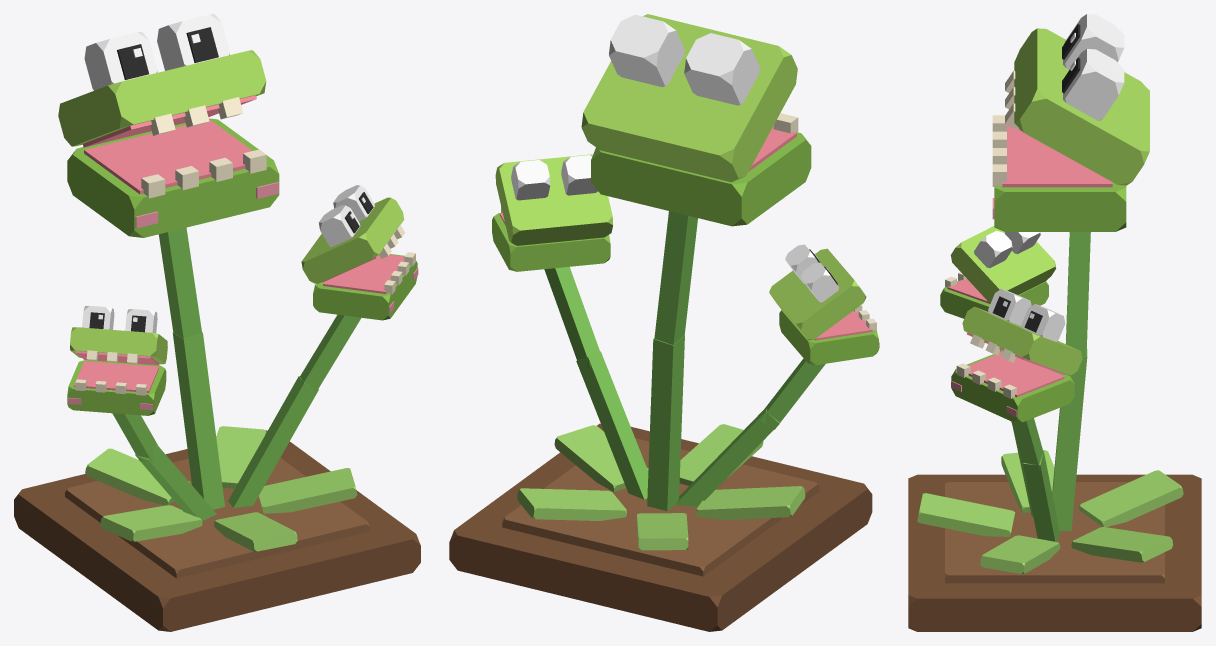
The model's file is venus-flytrap-poly-by-google_0y4ZpRcGhoD-blocky.glb.
3 views of the same model, side by side, from view 1: azimuth 30°, elevation 25°; view 2: azimuth 150°, elevation 25°; view 3: azimuth 270°, elevation 25° (orthographic). The views are drawn at different scales.
Parts seen in each view (by area): view 1: VenusFlyTrap_mesh; view 2: VenusFlyTrap_mesh; view 3: VenusFlyTrap_mesh.
Part boxes in pixels (box(x1,y1,x2,y2)): VenusFlyTrap_mesh: box(14, 14, 420, 631); VenusFlyTrap_mesh: box(449, 14, 879, 631); VenusFlyTrap_mesh: box(908, 14, 1201, 631).
Size of the model in its own units: 7.85 by 10.78 by 5.6.
1 material, 1 textured.
